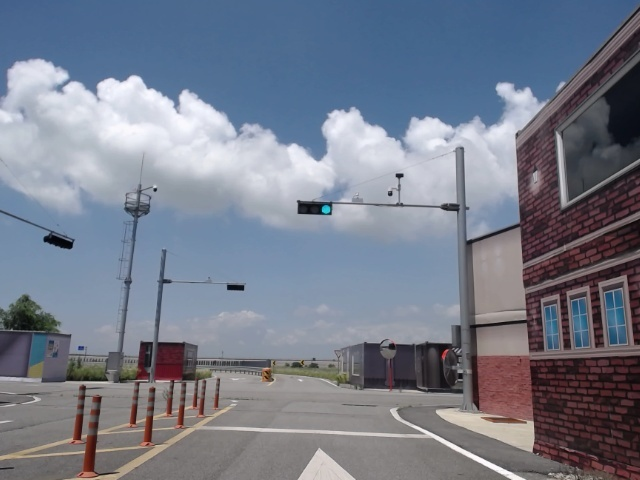green_3: (299, 201, 331, 214)
